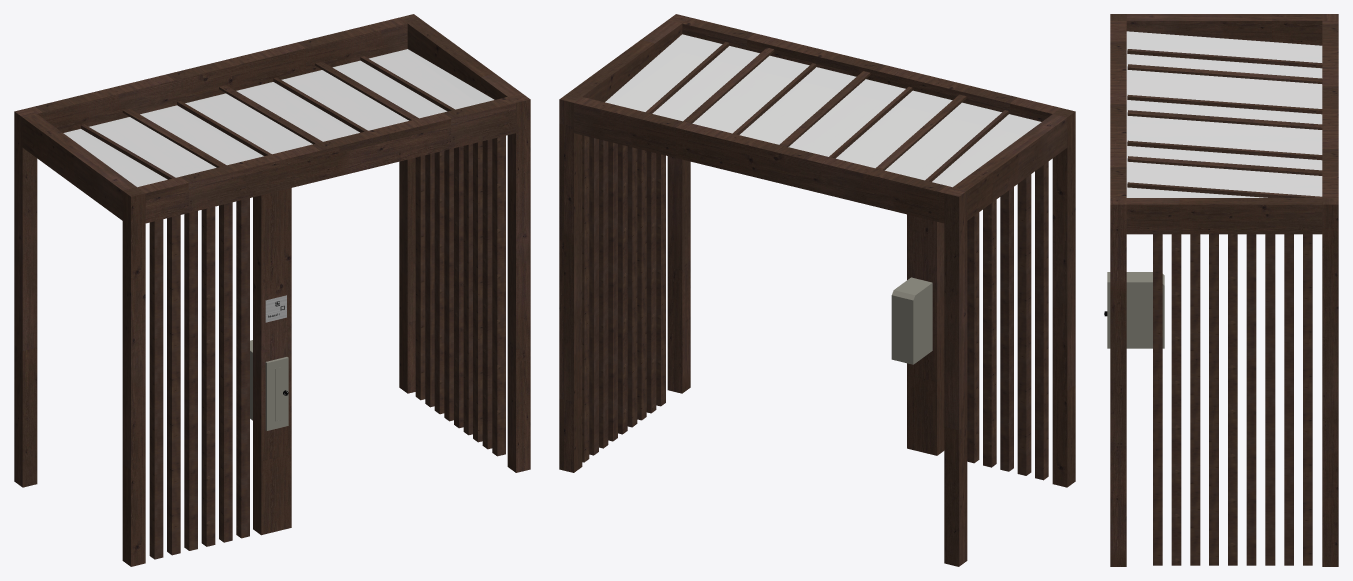
Rendered from hy16-e_darkpine.fbx.
The picture shows the model from 3 angles, left to right: view 1: azimuth 30°, elevation 25°; view 2: azimuth 150°, elevation 25°; view 3: azimuth 270°, elevation 25°; orthographic projection. The views are drawn at different scales.
Visible parts, largest first — view 1: hy16-e_darkpine; view 2: hy16-e_darkpine; view 3: hy16-e_darkpine.
Boxes of the visible parts, x1,y1,x2,y2 form: hy16-e_darkpine: (14, 14, 530, 566); hy16-e_darkpine: (559, 14, 1075, 566); hy16-e_darkpine: (1104, 14, 1338, 566).
Bounding box in the file's own units: 277 × 245 × 144.
10 materials, 7 textured.
